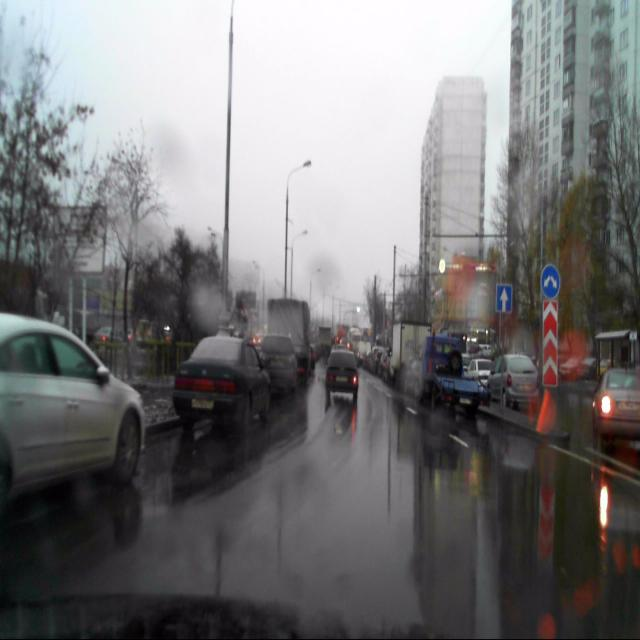road sign: (496, 284, 512, 312)
